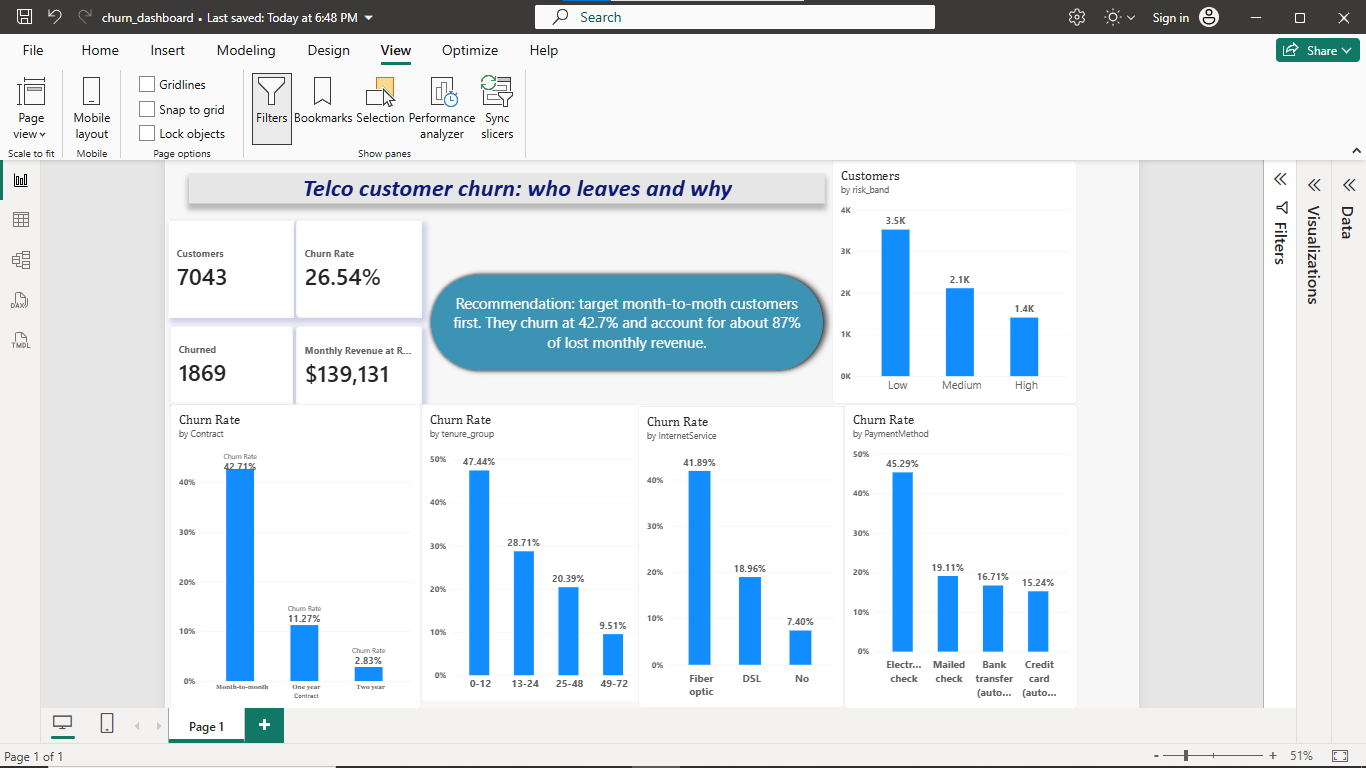

This screenshot's page, from the dashboard's own definition file:
{"tool":"powerbi","page":{"name":"Page 1","canvas":[1920,1080],"ordinal":0},"visuals":[{"type":"cardVisual","fields":{"Data":["churn_dashboard_data.Customers"]},"box":[5,117.5,247.5,192.5],"z":0},{"type":"cardVisual","fields":{"Data":["churn_dashboard_data.Churned"]},"box":[10,327.5,242.5,152.5],"z":1000},{"type":"cardVisual","fields":{"Data":["churn_dashboard_data.Churn Rate"]},"box":[257.5,117.5,247.5,192.5],"z":2000},{"type":"cardVisual","fields":{"Data":["churn_dashboard_data.Monthly Revenue at Risk"]},"box":[257.5,327.5,247.5,157.5],"z":3000},{"type":"clusteredColumnChart","fields":{"Category":["churn_dashboard_data.Contract"],"Y":["churn_dashboard_data.Churn Rate"]},"box":[10,480,495,600],"z":4000},{"type":"clusteredColumnChart","fields":{"Category":["churn_dashboard_data.tenure_group"],"Y":["churn_dashboard_data.Churn Rate"]},"box":[505,480,455,587.5],"z":5000},{"type":"clusteredColumnChart","fields":{"Category":["churn_dashboard_data.InternetService"],"Y":["churn_dashboard_data.Churn Rate"]},"box":[932.5,485,405,595],"z":6000},{"type":"clusteredColumnChart","fields":{"Category":["churn_dashboard_data.PaymentMethod"],"Y":["churn_dashboard_data.Churn Rate"]},"box":[1337.5,480,460,600],"z":7000},{"type":"clusteredColumnChart","fields":{"Category":["churn_dashboard_data.risk_band"],"Y":["churn_dashboard_data.Customers"]},"box":[1315,0,482.5,480],"z":8000},{"type":"actionButton","box":[503.9,206.6,811.3,226.8],"z":8001},{"type":"textbox","box":[47.5,25,1252.5,60],"z":8002}]}

Visuals, with their boxes on the page's 1920x1080 design canvas (x1, y1, x2, y2). These are canvas units, not pixel positions in the 1366x768 screenshot, which may show the page scaled, cropped or inside an application window:
cardVisual - churn_dashboard_data.Customers: box(5, 118, 252, 310)
cardVisual - churn_dashboard_data.Churned: box(10, 328, 252, 480)
cardVisual - churn_dashboard_data.Churn Rate: box(258, 118, 505, 310)
cardVisual - churn_dashboard_data.Monthly Revenue at Risk: box(258, 328, 505, 485)
clusteredColumnChart - churn_dashboard_data.Contract x churn_dashboard_data.Churn Rate: box(10, 480, 505, 1080)
clusteredColumnChart - churn_dashboard_data.tenure_group x churn_dashboard_data.Churn Rate: box(505, 480, 960, 1068)
clusteredColumnChart - churn_dashboard_data.InternetService x churn_dashboard_data.Churn Rate: box(932, 485, 1338, 1080)
clusteredColumnChart - churn_dashboard_data.PaymentMethod x churn_dashboard_data.Churn Rate: box(1338, 480, 1798, 1080)
clusteredColumnChart - churn_dashboard_data.risk_band x churn_dashboard_data.Customers: box(1315, 0, 1798, 480)
actionButton: box(504, 207, 1315, 433)
textbox: box(48, 25, 1300, 85)
